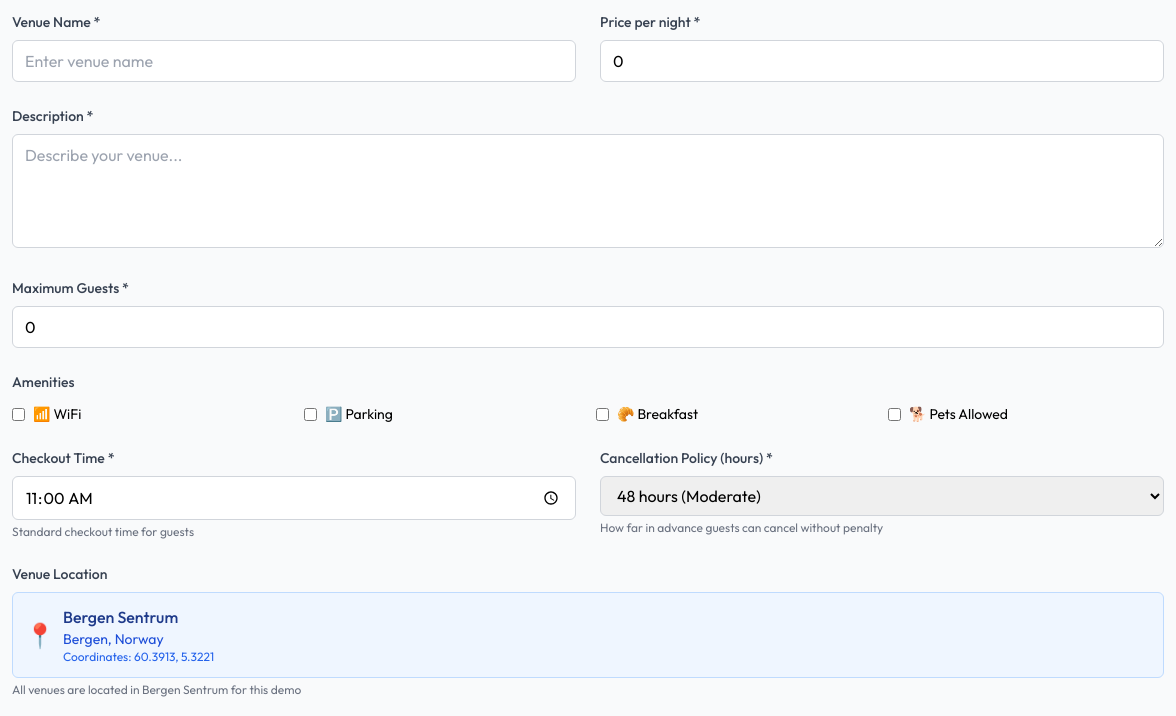
it: VenueForm › Common Functionality › dismisses policy warning when dismiss button is clicked
Trigger policy warning
Replace the text in the time field labelled "Checkout Time *" with "12:00" at (294, 498), box [12,476,576,520]
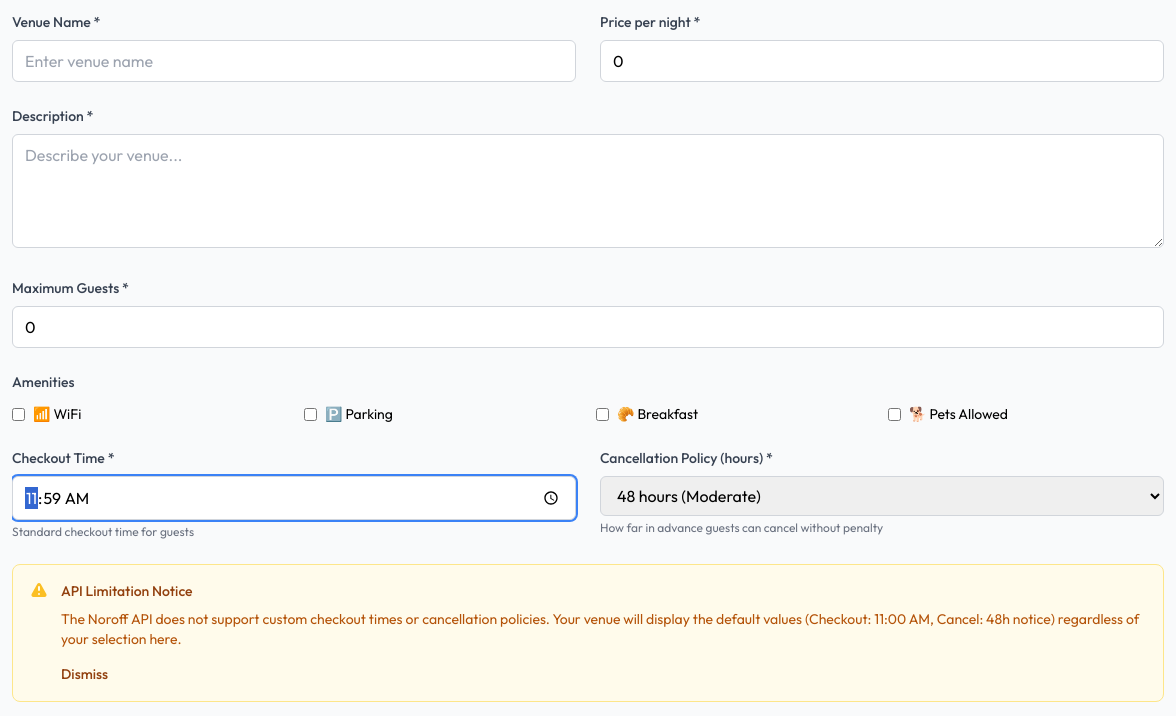
Expected: the heading "API Limitation Notice" is shown, [61,582,192,600]
Dismiss warning
Click the button "Dismiss" at (84, 674), box [61,664,108,684]
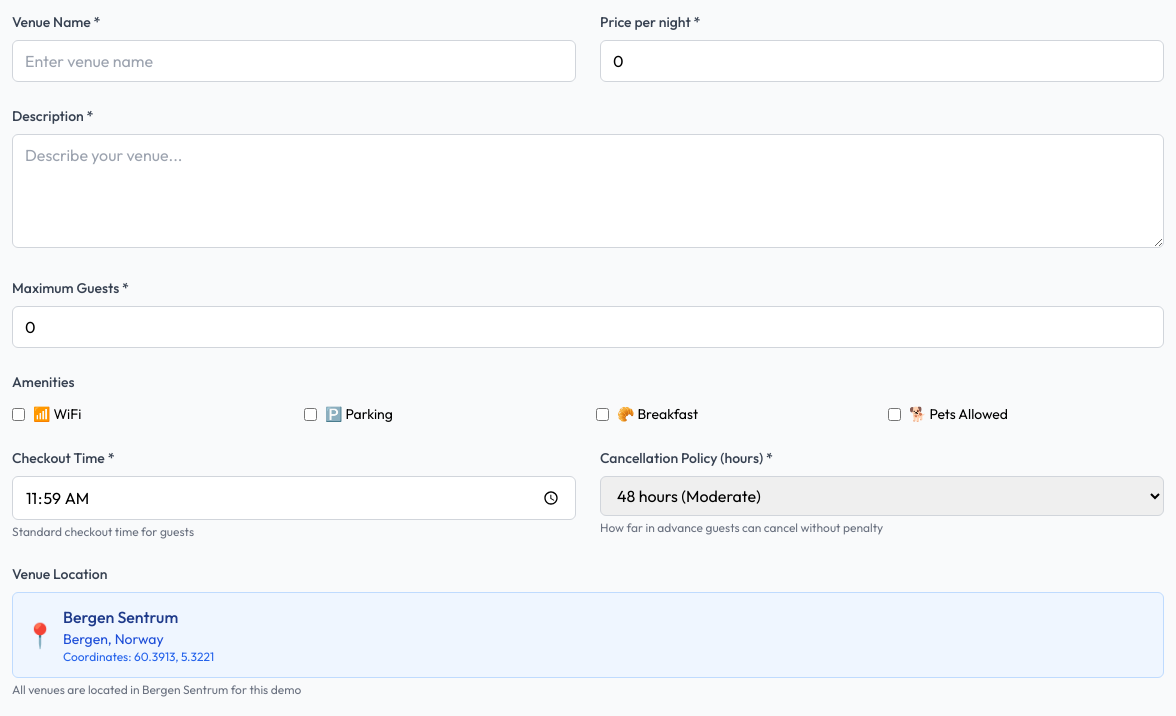
Expected: the heading "API Limitation Notice" is gone
